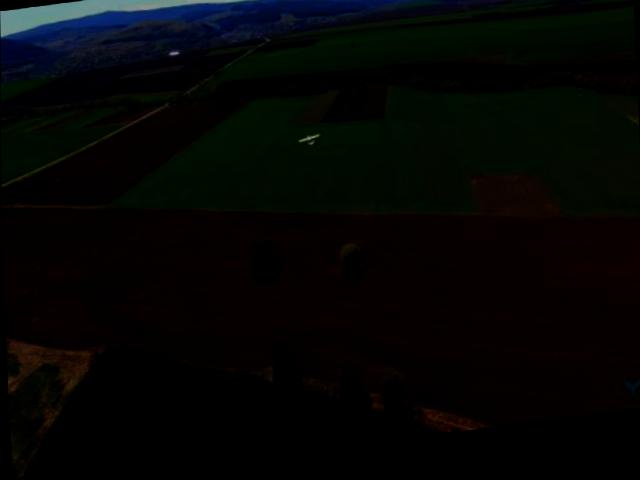uav: (292, 131, 324, 158)
